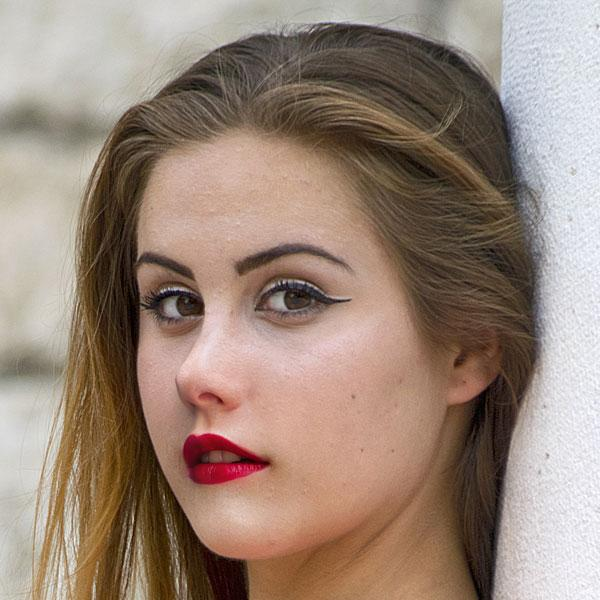Eyes: (244, 271, 344, 337), (138, 276, 212, 333)
